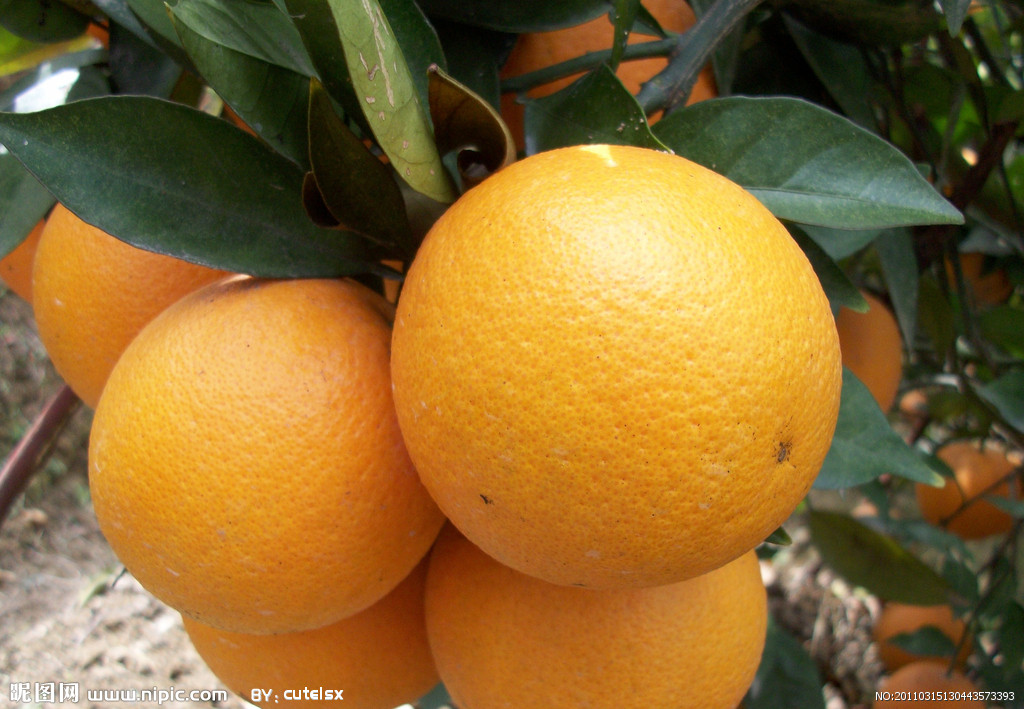orange: (386, 144, 837, 587), (85, 264, 443, 629), (29, 155, 314, 415), (424, 516, 765, 709), (183, 481, 443, 709)
